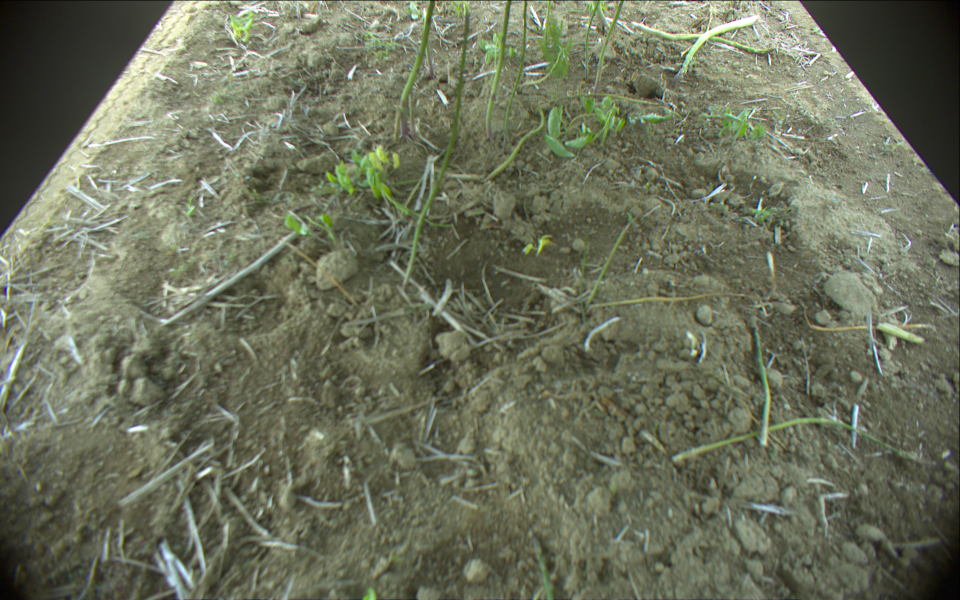aspa: (403, 8, 471, 288), (677, 414, 927, 461), (678, 16, 761, 81), (397, 1, 436, 134), (483, 108, 545, 185), (631, 22, 775, 55), (585, 290, 760, 315), (583, 221, 632, 307), (504, 1, 531, 134), (486, 1, 511, 137), (592, 1, 623, 96), (749, 324, 771, 446), (586, 1, 602, 74)
